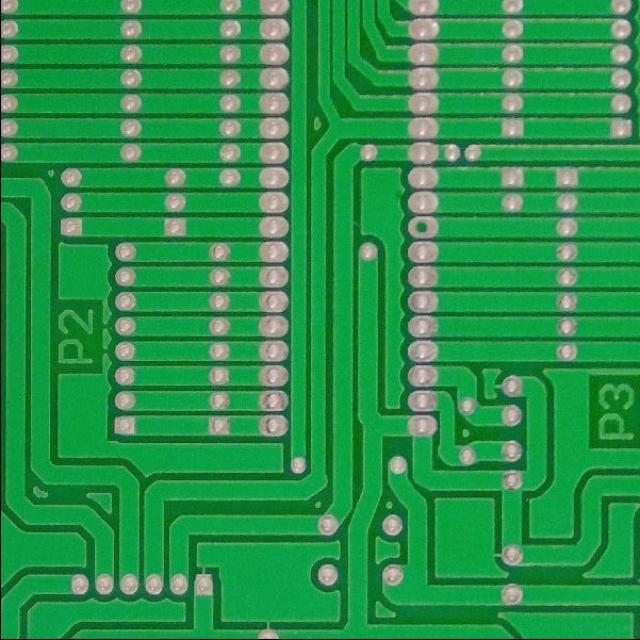missing_hole: (408, 215, 439, 243)
